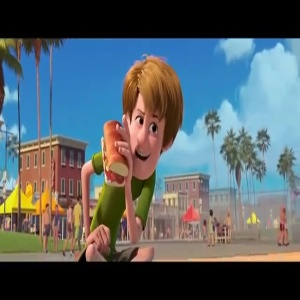Shagy: (118, 56, 186, 184)
